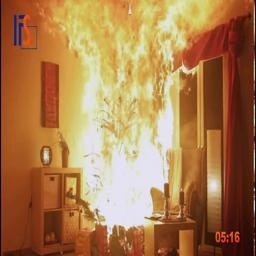fire: (51, 0, 200, 239)
